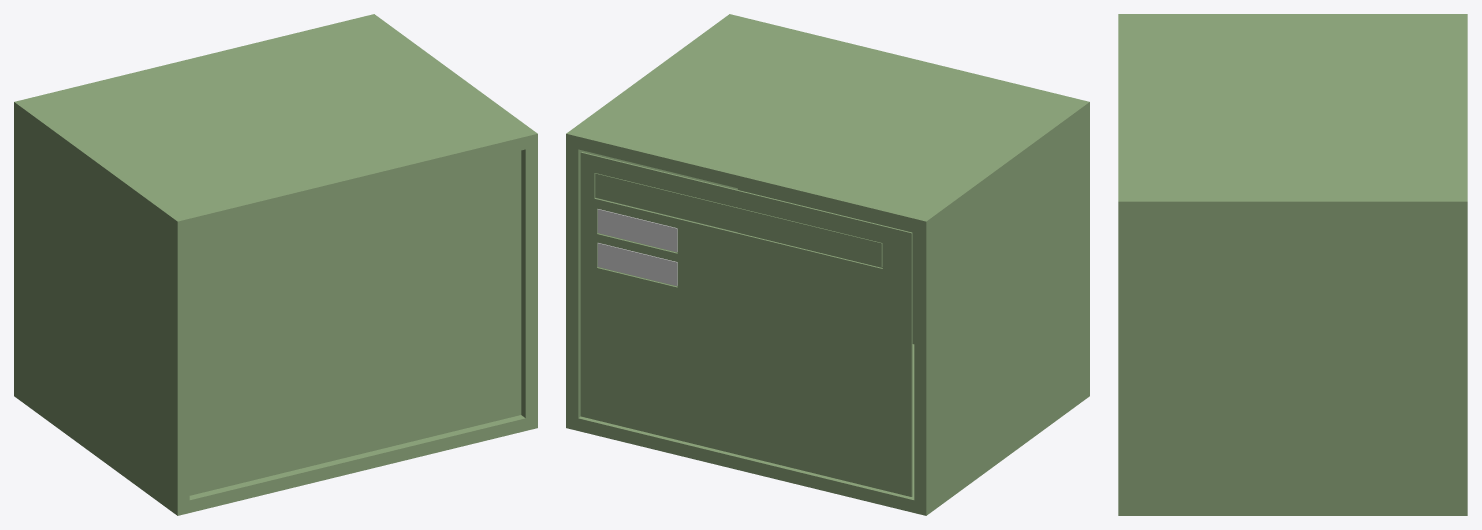
File: test_generate_mailbox_1x1.glb
The picture shows the model from 3 angles, left to right: view 1: azimuth 30°, elevation 25°; view 2: azimuth 150°, elevation 25°; view 3: azimuth 270°, elevation 25°; orthographic projection. The views are drawn at different scales.
Parts seen in each view (by area): view 1: 2sTsRVSMz128raGvjn4v5f, 36c8eyYZv2DvUGugv$TgLP; view 2: 2sTsRVSMz128raGvjn4v5f, 2OfzRzjcn4ju1$MaLCmFZ0, 3l7DtjzT56Xxppl61_xYo7, 16RBxSwRT3o95mTb_$xyEJ, 2qkH$jpef3p9cRKvinFN4D, 36c8eyYZv2DvUGugv$TgLP; view 3: 2sTsRVSMz128raGvjn4v5f.
Part boxes in pixels (x1=…): 2sTsRVSMz128raGvjn4v5f: x1=14, y1=14, x2=537, y2=515; 36c8eyYZv2DvUGugv$TgLP: x1=189, y1=150, x2=521, y2=495; 2sTsRVSMz128raGvjn4v5f: x1=566, y1=14, x2=1089, y2=515; 2OfzRzjcn4ju1$MaLCmFZ0: x1=580, y1=152, x2=912, y2=496; 3l7DtjzT56Xxppl61_xYo7: x1=595, y1=173, x2=882, y2=267; 16RBxSwRT3o95mTb_$xyEJ: x1=597, y1=243, x2=677, y2=285; 2qkH$jpef3p9cRKvinFN4D: x1=597, y1=209, x2=677, y2=251; 36c8eyYZv2DvUGugv$TgLP: x1=738, y1=188, x2=914, y2=344; 2sTsRVSMz128raGvjn4v5f: x1=1118, y1=14, x2=1467, y2=515.
Bounding box in the file's own units: 0.445 × 0.3475 × 0.35.
